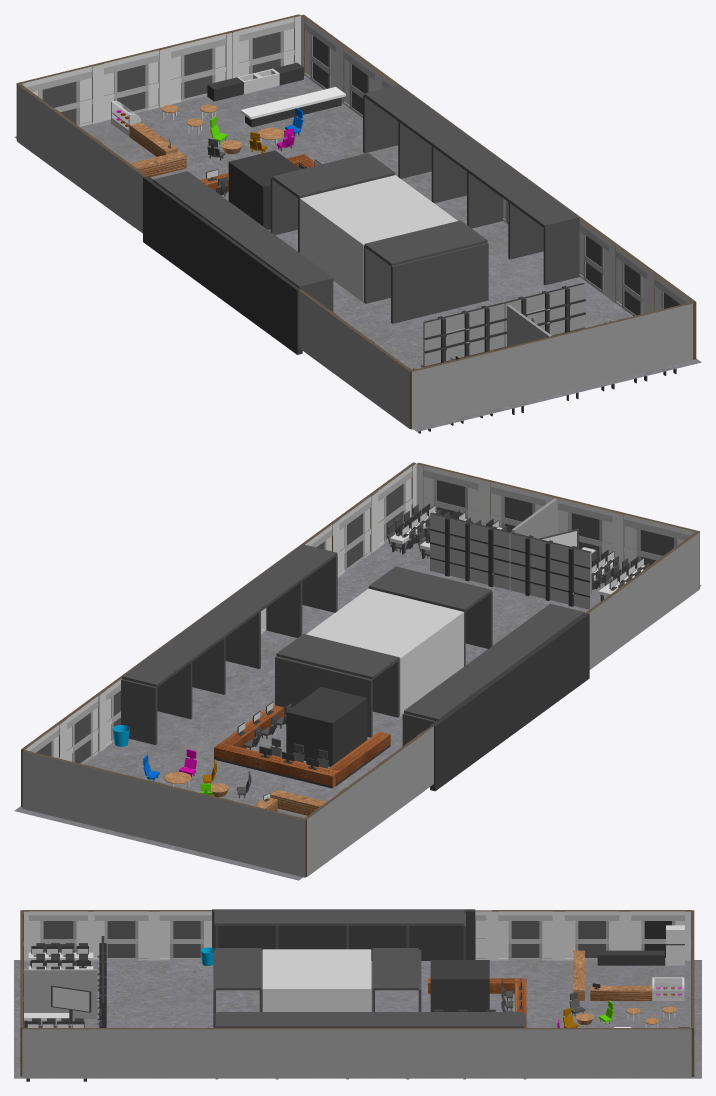
File: Level_1.fbx
The picture shows the model from 3 angles, top to bottom: view 1: azimuth 30°, elevation 25°; view 2: azimuth 150°, elevation 25°; view 3: azimuth 270°, elevation 25°; orthographic projection. The views are drawn at different scales.
Parts seen in each view (by area): view 1: pCube467; view 2: pCube467; view 3: pCube467.
Boxes of the visible parts, x1,y1,x2,y2 form: pCube467: [14, 14, 701, 433]; pCube467: [14, 462, 701, 880]; pCube467: [14, 909, 701, 1081].
Bounding box in the file's own units: 24.58 × 7.47 × 59.47.
Materials: 25 (3 with a texture image).
